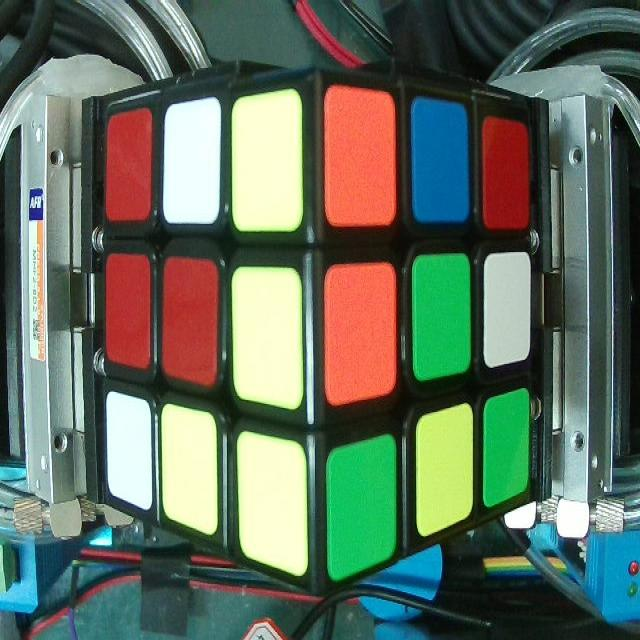b: (415, 96, 469, 220)
g: (332, 451, 393, 573), (418, 261, 470, 376), (485, 402, 527, 508)
o: (325, 86, 397, 225), (327, 264, 395, 404)
r: (166, 259, 216, 383), (483, 116, 532, 226), (106, 253, 150, 369), (107, 116, 151, 220)
w: (169, 102, 218, 221), (106, 395, 151, 511), (486, 249, 526, 360)
y: (237, 429, 308, 568), (234, 270, 301, 406), (236, 99, 297, 237), (417, 417, 475, 533), (165, 411, 214, 530)
